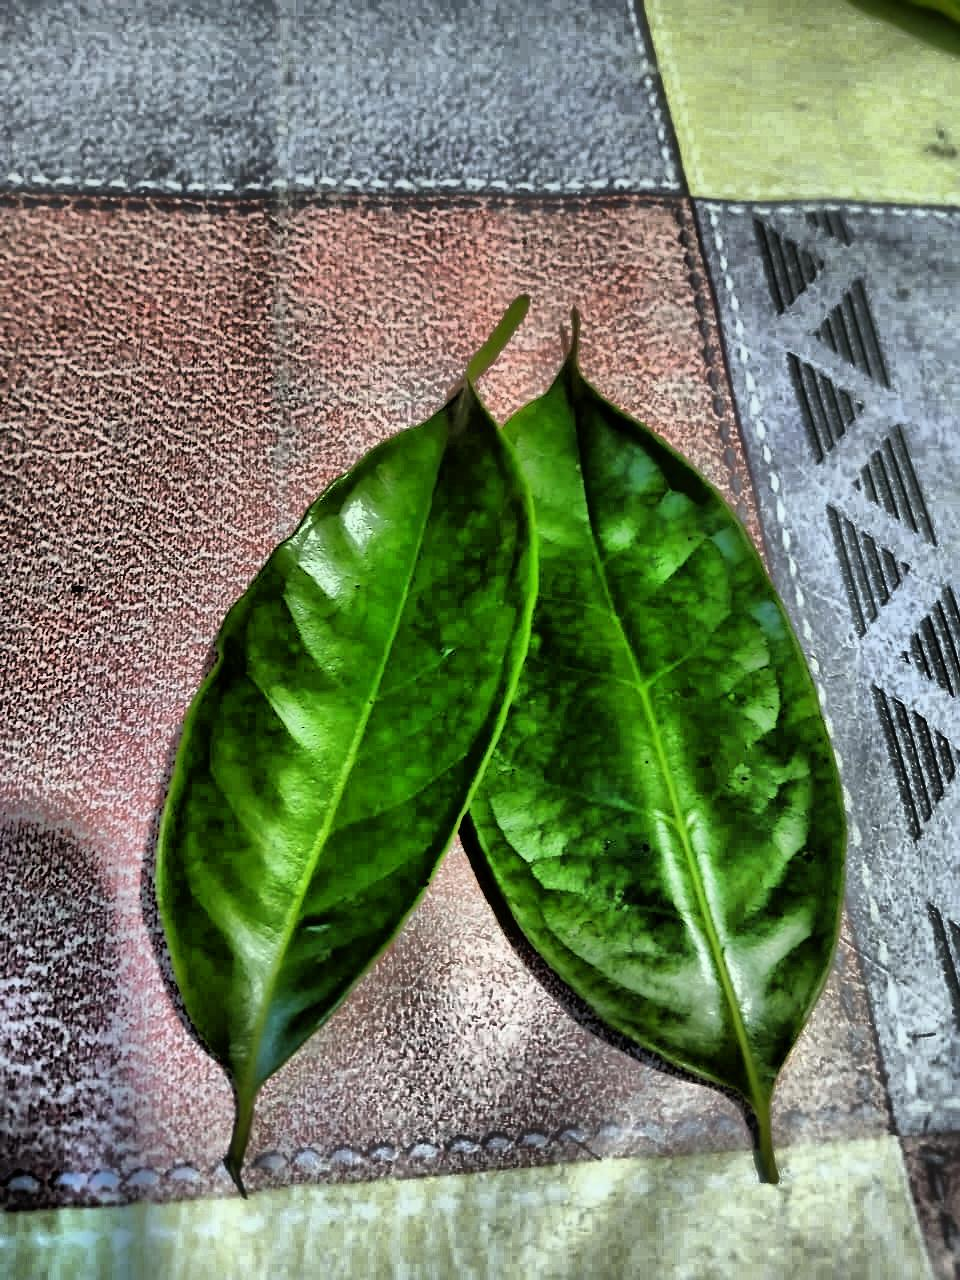daun salam: (159, 313, 845, 1180)
